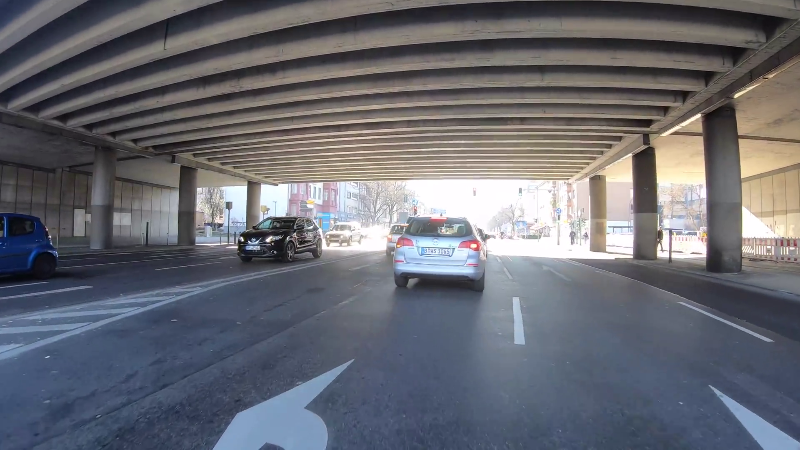Plate: (419, 246, 453, 256)
